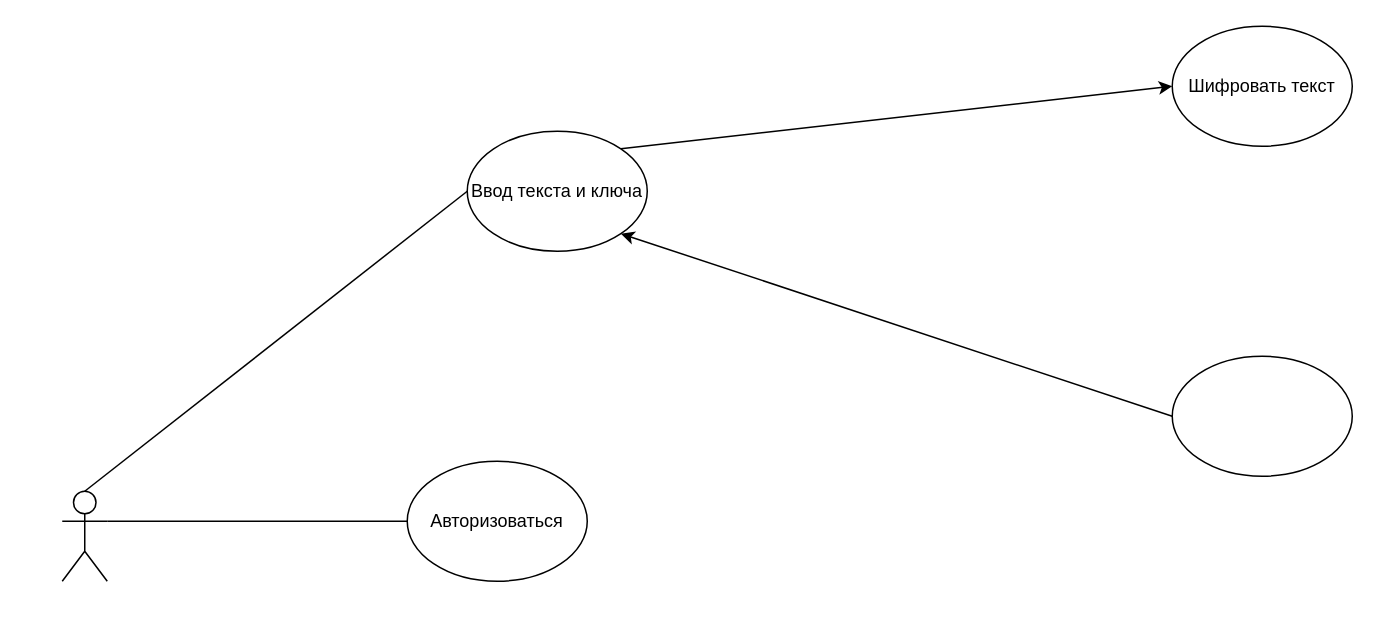
Some shapes in this 1379 by 639 pixel diagram are drawn without their labels. Here are the shapes that lost their labels. From the top down, the box of each, then its label:
(1171, 355, 1352, 476): Дешифровать текст
(61, 490, 107, 581): Пользователь
